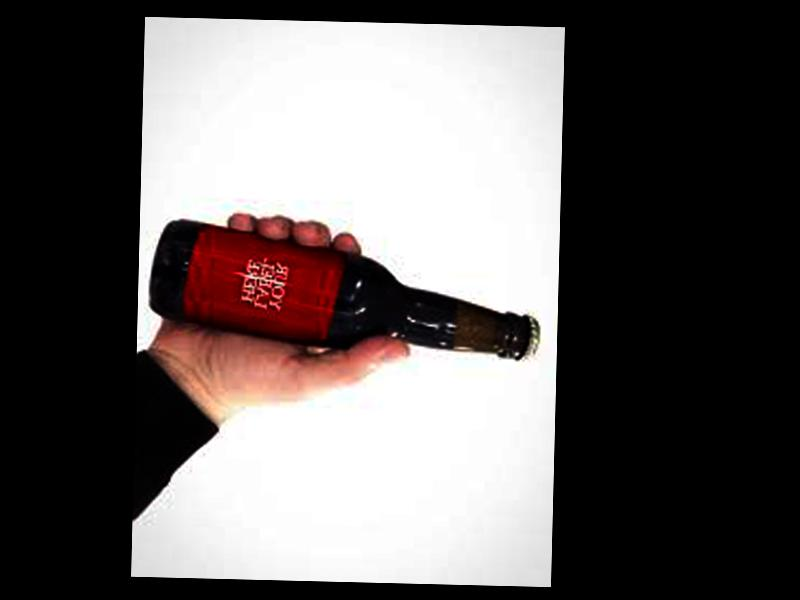Beer: (149, 217, 544, 363)
